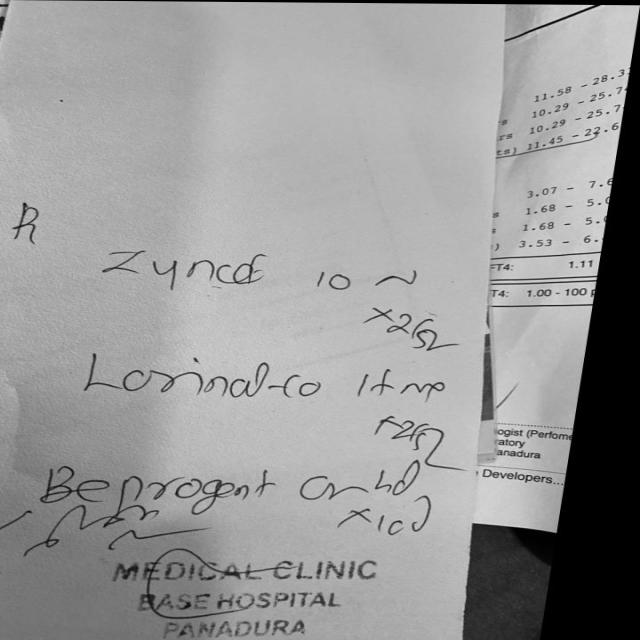Prescription: (83, 346, 471, 468), (100, 243, 464, 355), (48, 458, 460, 544)
